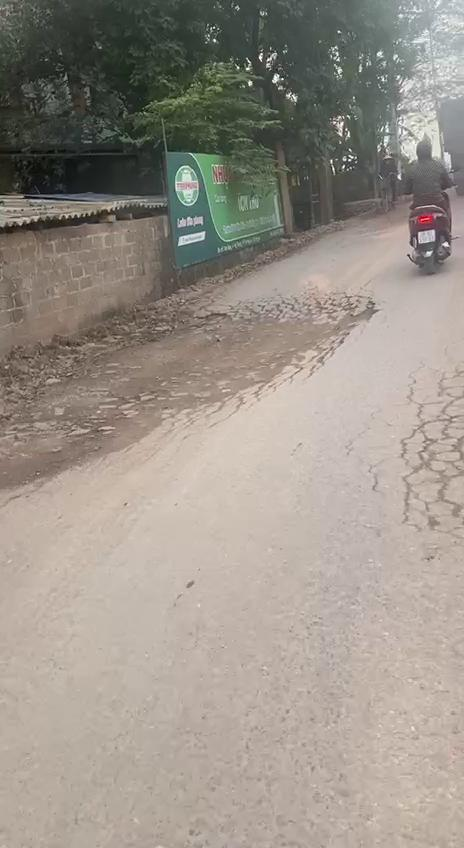pothole: (0, 290, 362, 438)
